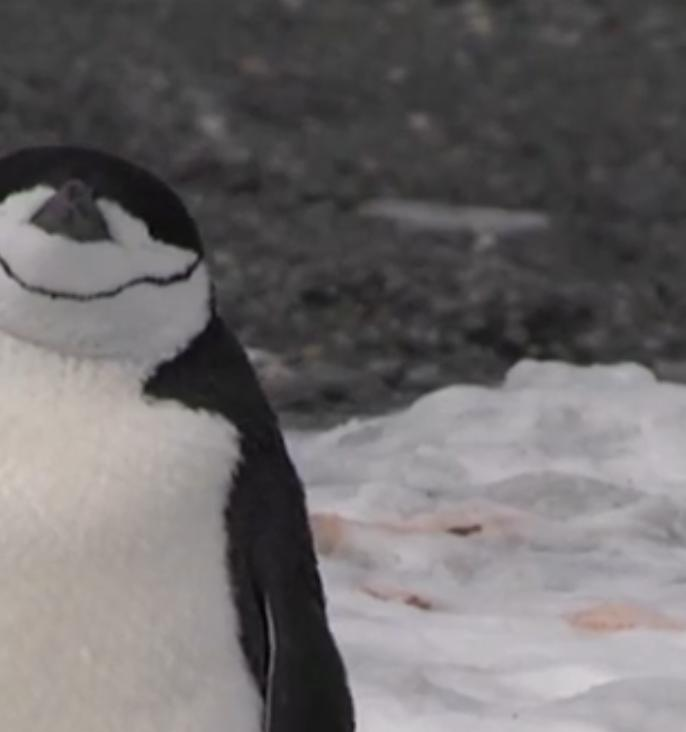Chinstrap Penguin: (0, 136, 324, 551), (0, 543, 565, 732)
